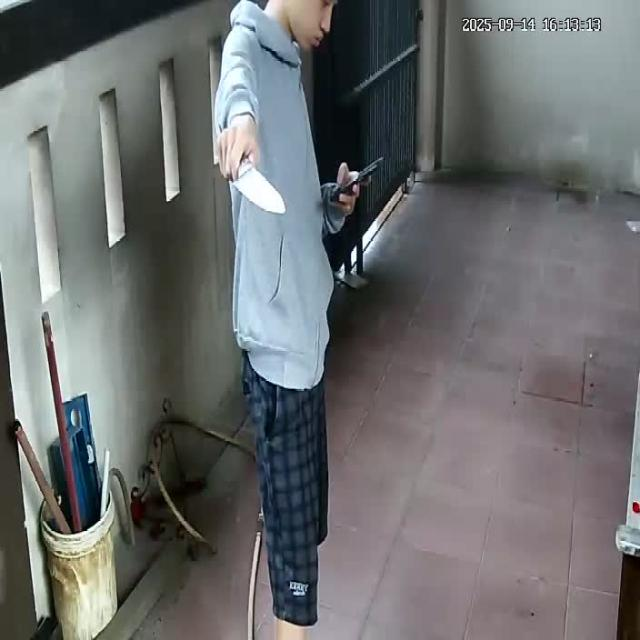senjata_tajam: (233, 168, 290, 217)
